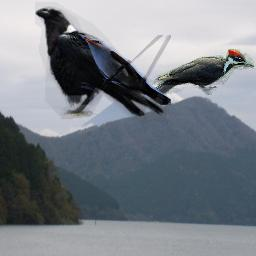Crow: (35, 2, 167, 122)
Cuckoo: (81, 35, 171, 105)
Woodpecker: (145, 49, 254, 95)
